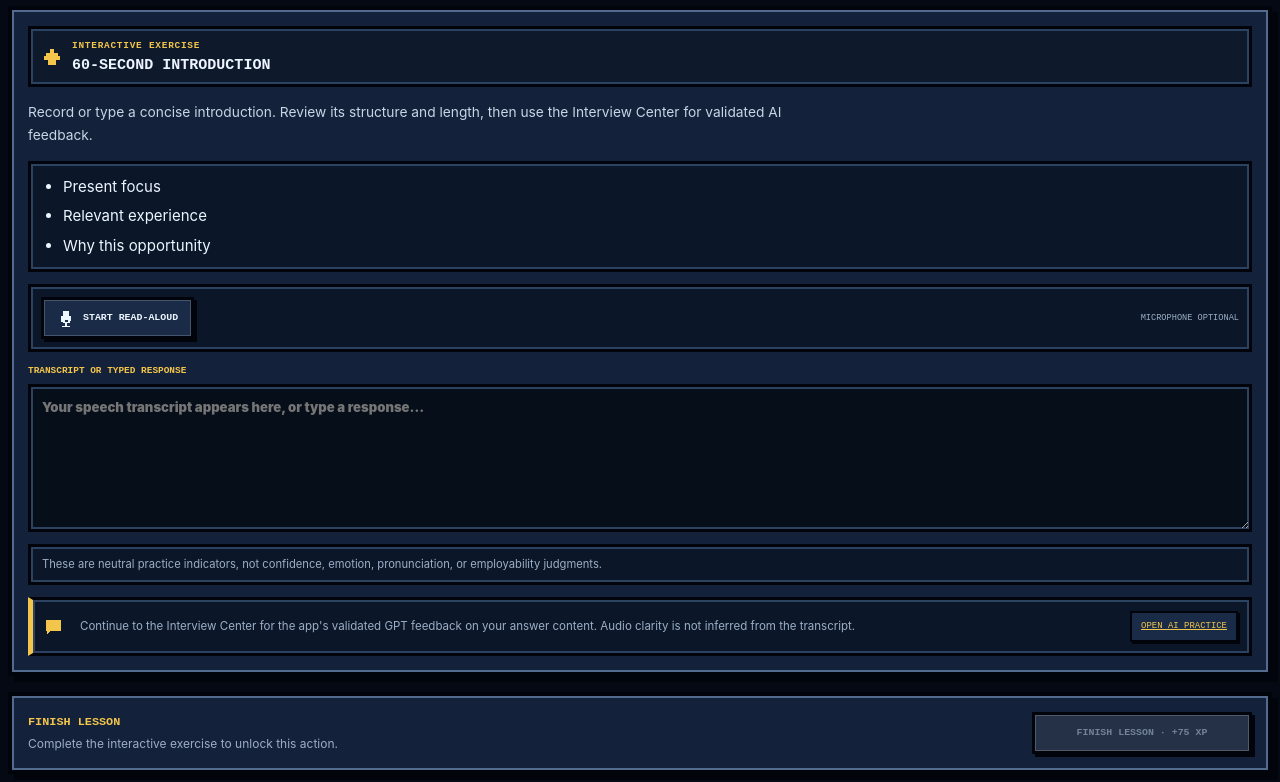
it: AcademyLesson › provides a typed fallback for speaking exercises and links AI evaluation honestly
(page scrolled)
In the text box labelled "Transcript or typed response": (640, 458) [28,384,1252,532], type "I am a recent graduate who builds accessible projects and learns quickly from feedback."
(page scrolled)
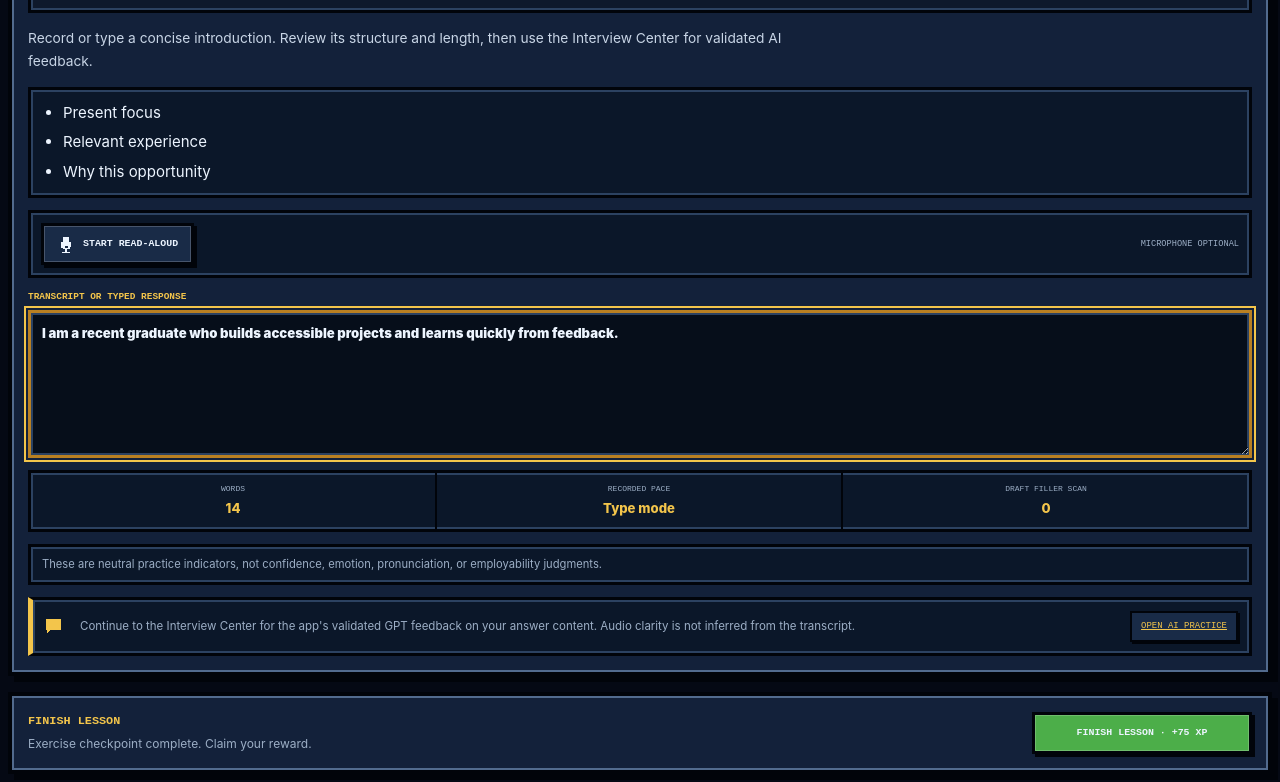
Check: the text "neutral practice indicators" is shown, box [42,557,602,571]
Check: the button "Finish Lesson · +75 XP" is enabled, box [1032,712,1252,754]
